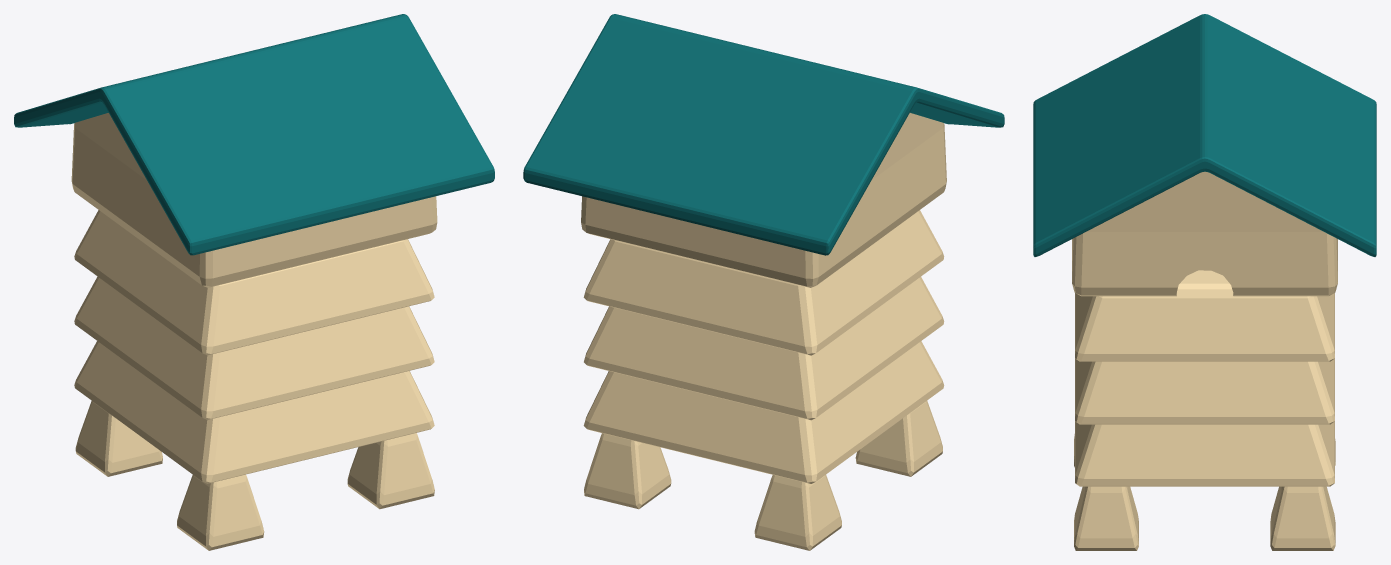
Rendered from Ul dla pszczół.fbx.
3 renders of one model, left to right at view 1: azimuth 30°, elevation 25°; view 2: azimuth 150°, elevation 25°; view 3: azimuth 270°, elevation 25°, orthographic. The views are drawn at different scales.
Visible parts, largest first — view 1: Cube.009, Cube.002, Cube.001, Cube, Cube.003, Cube.006, Cube.007, Cube.005; view 2: Cube.009, Cube.002, Cube.001, Cube, Cube.003, Cube.005, Cube.004, Cube.006; view 3: Cube.009, Cube.003, Cube.002, Cube.001, Cube, Cube.004, Cube.007.
Part boxes in pixels (x1,y1,x2,y2): Cube.009: [14, 14, 494, 255]; Cube.002: [74, 210, 434, 355]; Cube.001: [74, 276, 434, 419]; Cube: [74, 341, 434, 483]; Cube.003: [71, 113, 437, 287]; Cube.006: [177, 474, 264, 550]; Cube.007: [347, 433, 434, 509]; Cube.005: [75, 401, 162, 476]; Cube.009: [523, 14, 1004, 255]; Cube.002: [583, 210, 944, 355]; Cube.001: [584, 277, 944, 420]; Cube: [583, 341, 944, 483]; Cube.003: [581, 113, 946, 287]; Cube.005: [754, 475, 841, 550]; Cube.004: [584, 433, 671, 509]; Cube.006: [855, 401, 942, 476]; Cube.009: [1033, 14, 1376, 256]; Cube.003: [1072, 171, 1337, 296]; Cube.002: [1075, 270, 1334, 361]; Cube.001: [1075, 358, 1334, 424]; Cube: [1075, 421, 1334, 486]; Cube.004: [1270, 486, 1335, 550]; Cube.007: [1074, 486, 1138, 550].
Bounding box in the file's own units: 258 × 341 × 258.
